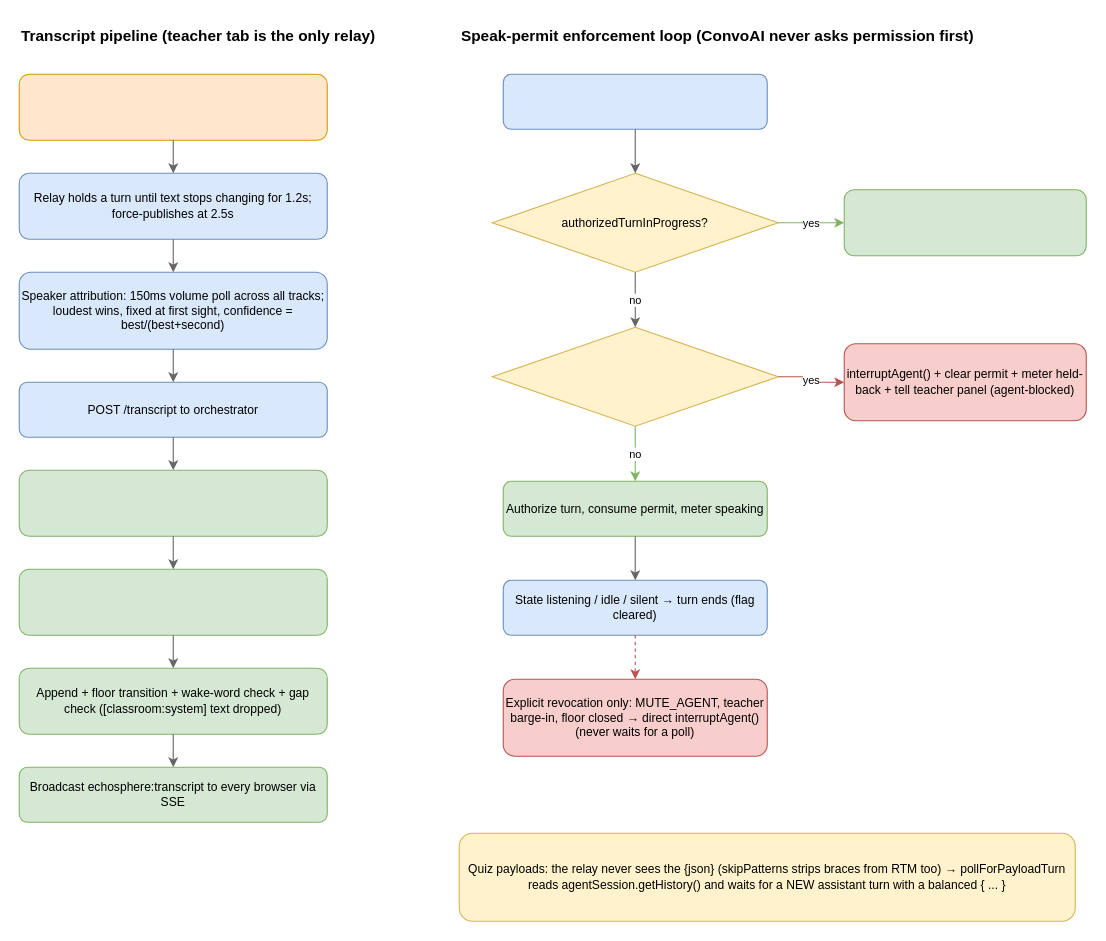
This 1106x941 diagram has some shape labels left out. Here are the shapes that lost their labels. From the top down, the centre of each, then its label:
At (172,106): "ConvoAI re-emits cumulative turns over RTM (same turn_id grows)".
At (634,101): "Browser relays AGENT_STATE: thinking / speaking".
At (964,222): "Let the turn run (authorization covers the whole turn)".
At (634,376): "Muted OR no valid permit (TTL 15s)?".
At (172,502): "Dedupe by (uid,turnId); a grown re-emit replaces the stored turn in place".
At (172,601): "stripSelfEcho: subtract anything Athena said in the last 10s, keep the remainder".
